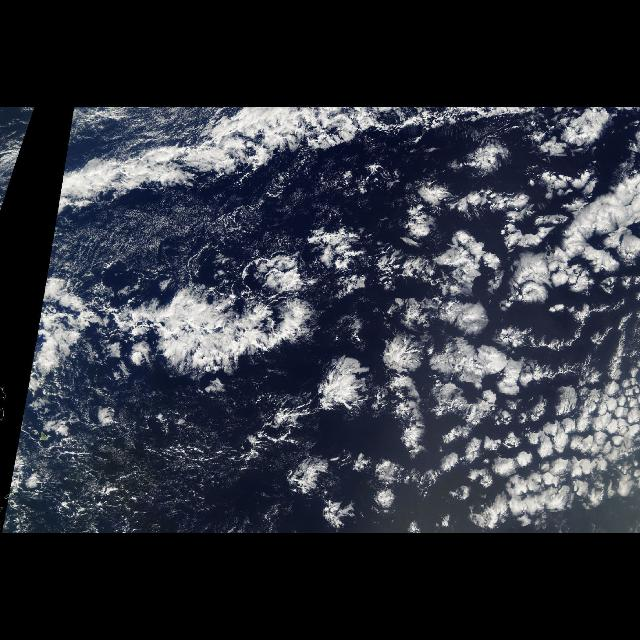Fish: (56, 107, 400, 213), (102, 278, 312, 382)
Flower: (136, 134, 640, 530)
Gravel: (0, 205, 252, 533)
Sugar: (59, 213, 222, 254)
